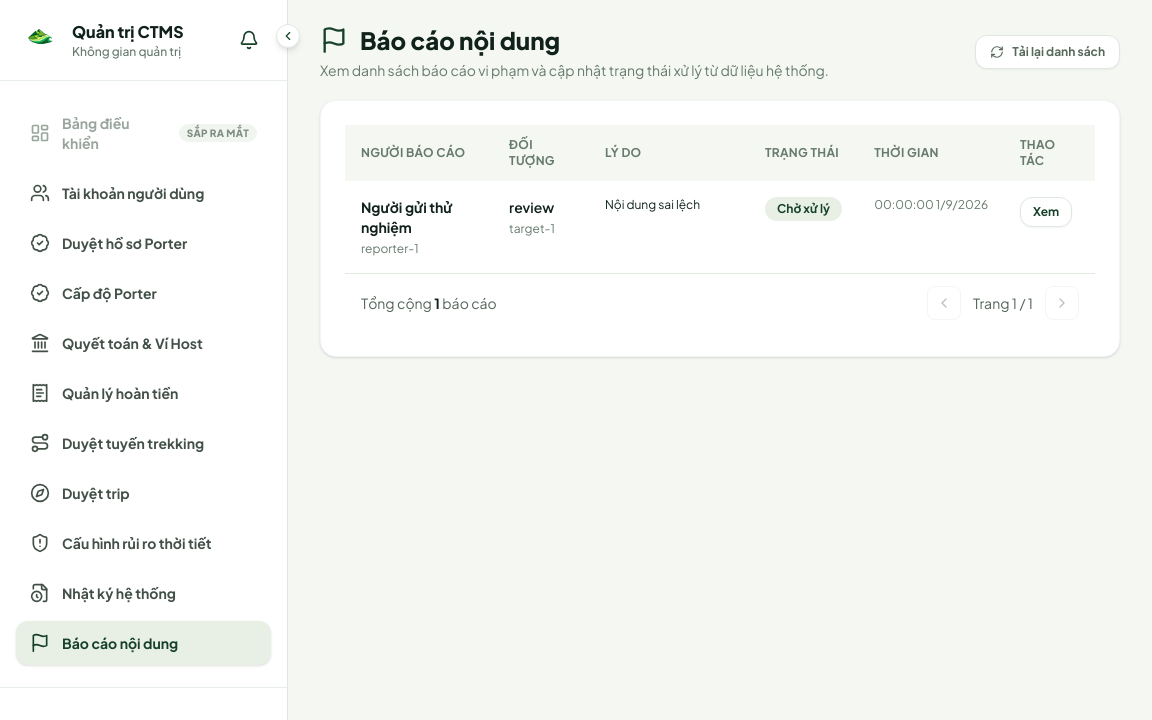
Test: Content Reports Admin UI › hides unsupported actions for actioned
Click the button "Xem": [1046, 212] box [1020,197,1072,227]
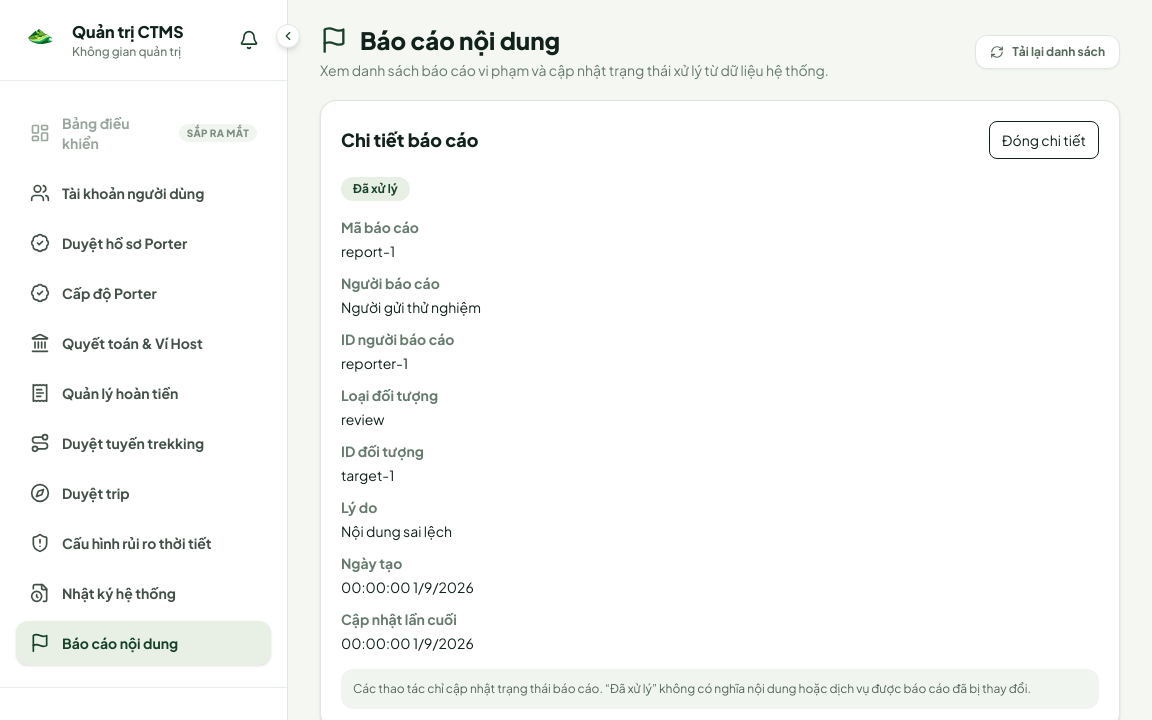
Check: the text "Nội dung sai lệch" is shown, box [341,522,452,540]
